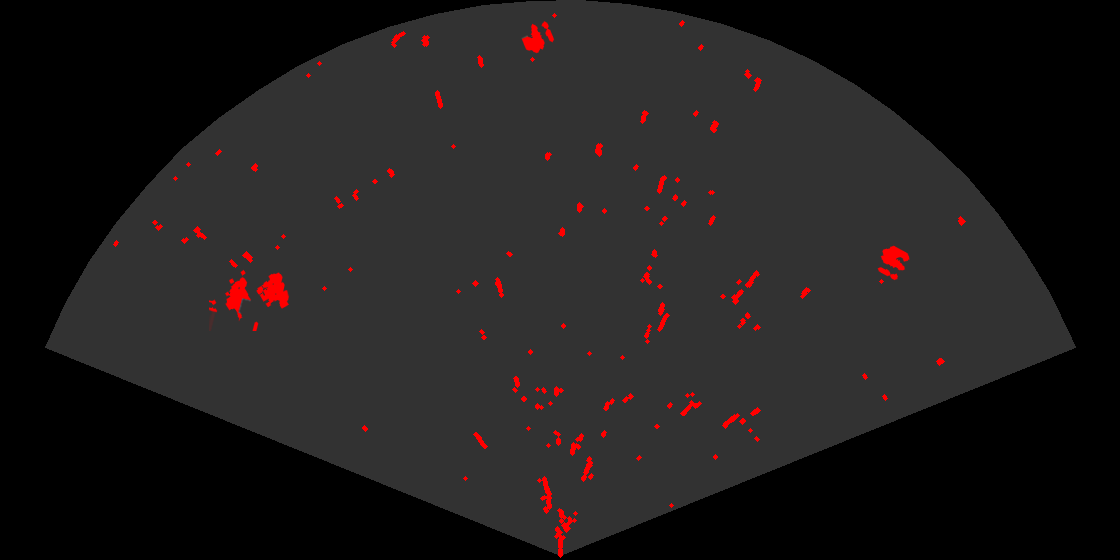ball: (876, 244, 911, 282), (520, 20, 556, 55)
cage: (209, 268, 291, 331)
